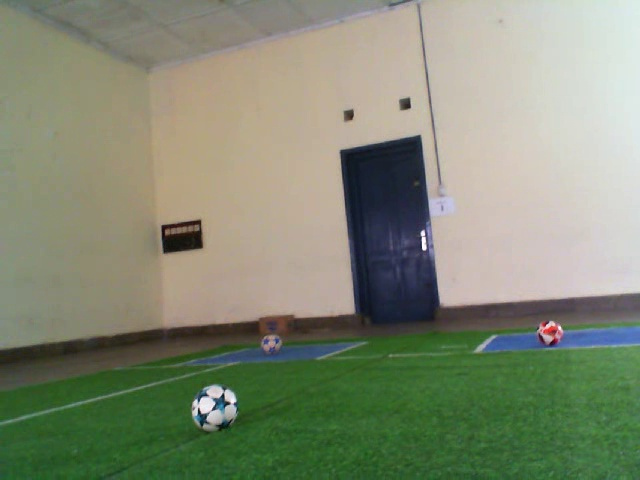ball: (188, 382, 241, 436), (534, 316, 567, 349), (259, 331, 286, 359)
